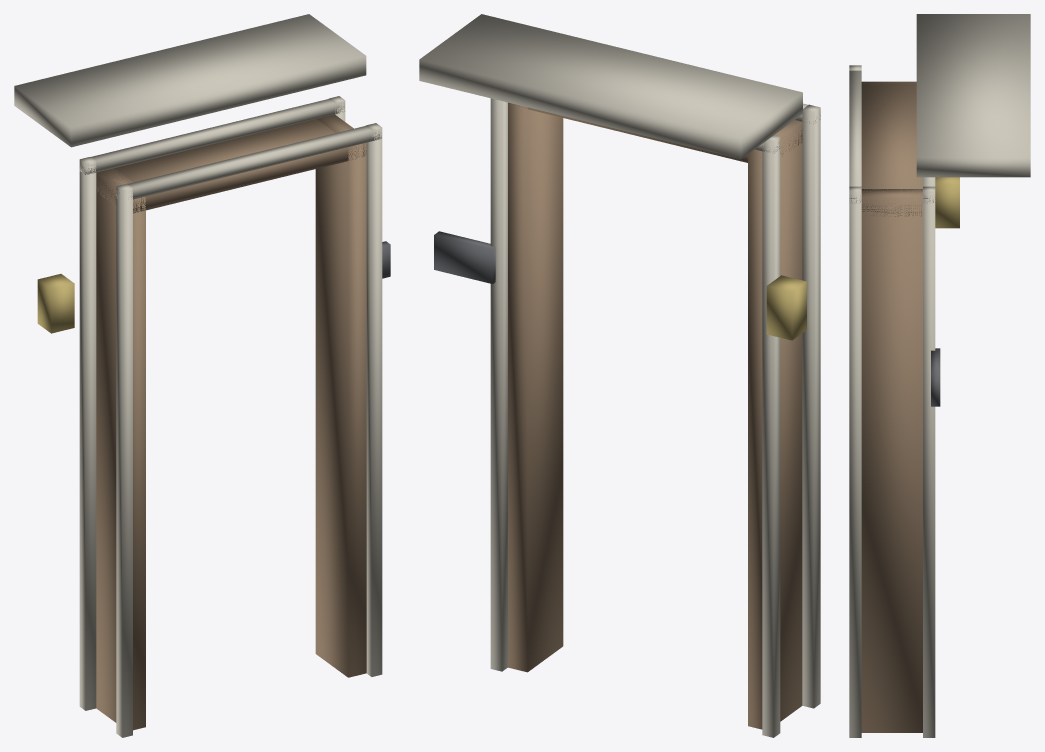
Rendered from doorway_motel_w86_h210_d24.glb.
The picture shows the model from 3 angles, left to right: view 1: azimuth 30°, elevation 25°; view 2: azimuth 150°, elevation 25°; view 3: azimuth 270°, elevation 25°; orthographic projection. The views are drawn at different scales.
Parts seen in each view (by area): view 1: world; view 2: world; view 3: world.
Boxes of the visible parts, <box> form: world: <box>14,14,390,737</box>; world: <box>419,14,820,737</box>; world: <box>849,14,1030,737</box>.
Size of the model in its own units: 1.44 by 2.4 by 0.6682.
